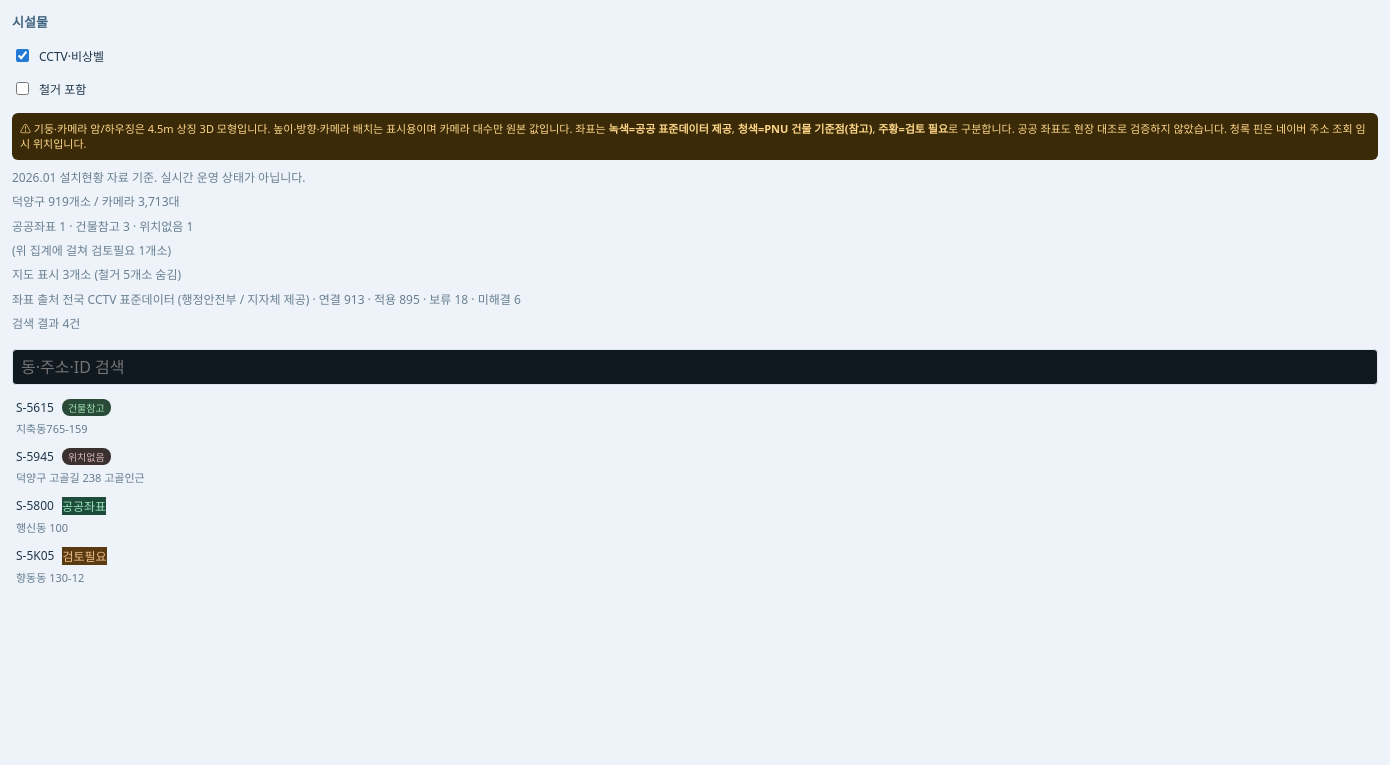
FacilitiesPanel › counts live display positions separately from stored coordinates
Expected: the message shows "청록 핀은 네이버 주소 조회", left=20, top=121, right=1366, bottom=151
Click the button "S-5945 위치없음 덕양구 고골길 238 고골인근" at (35, 456), box left=12, top=442, right=1378, bottom=490
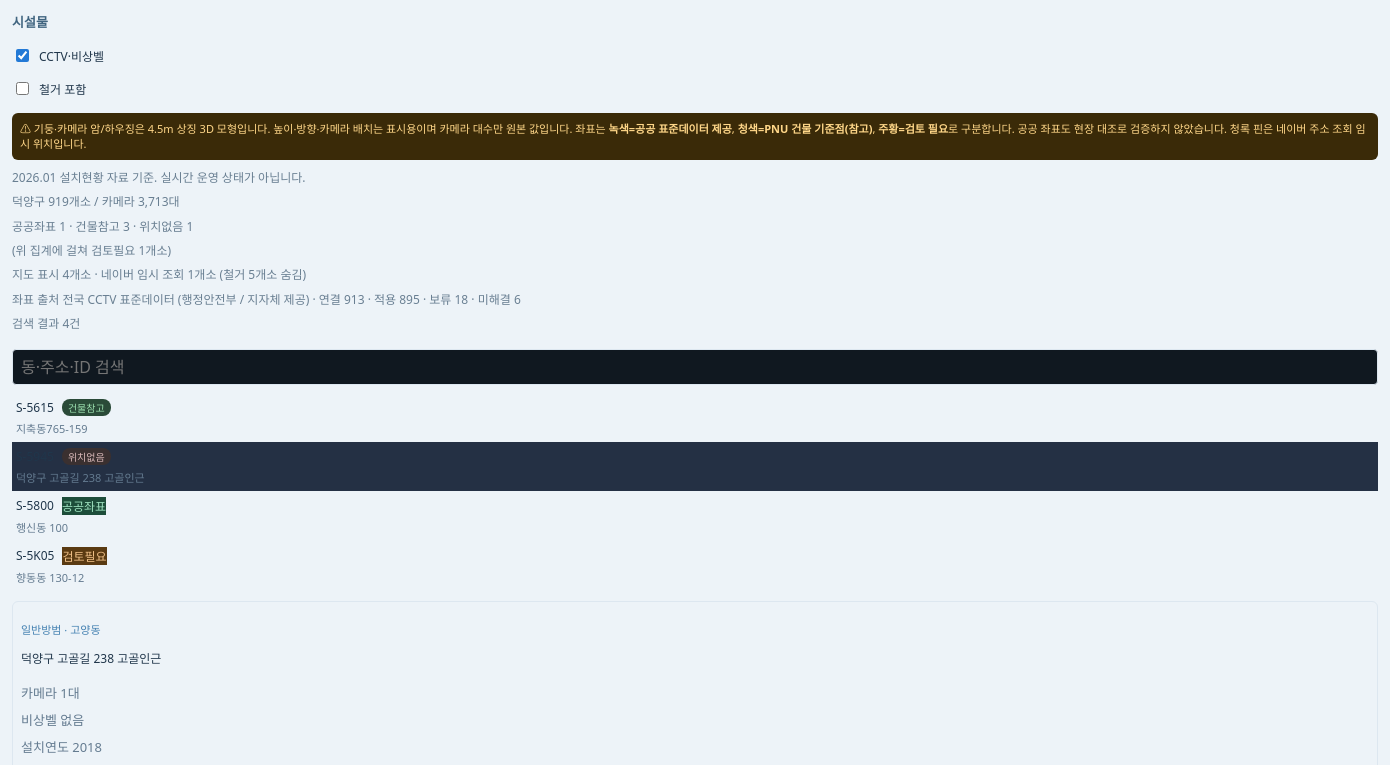
Expected: the text with test id "cctv-position-sources" shows "위치없음 1", left=12, top=218, right=193, bottom=235
Now the element with test id "cctv-stats" shows "지도 표시 4개소", box left=12, top=169, right=521, bottom=332
Now the element with test id "cctv-stats" shows "네이버 임시 조회 1개소", box left=91, top=266, right=216, bottom=283
